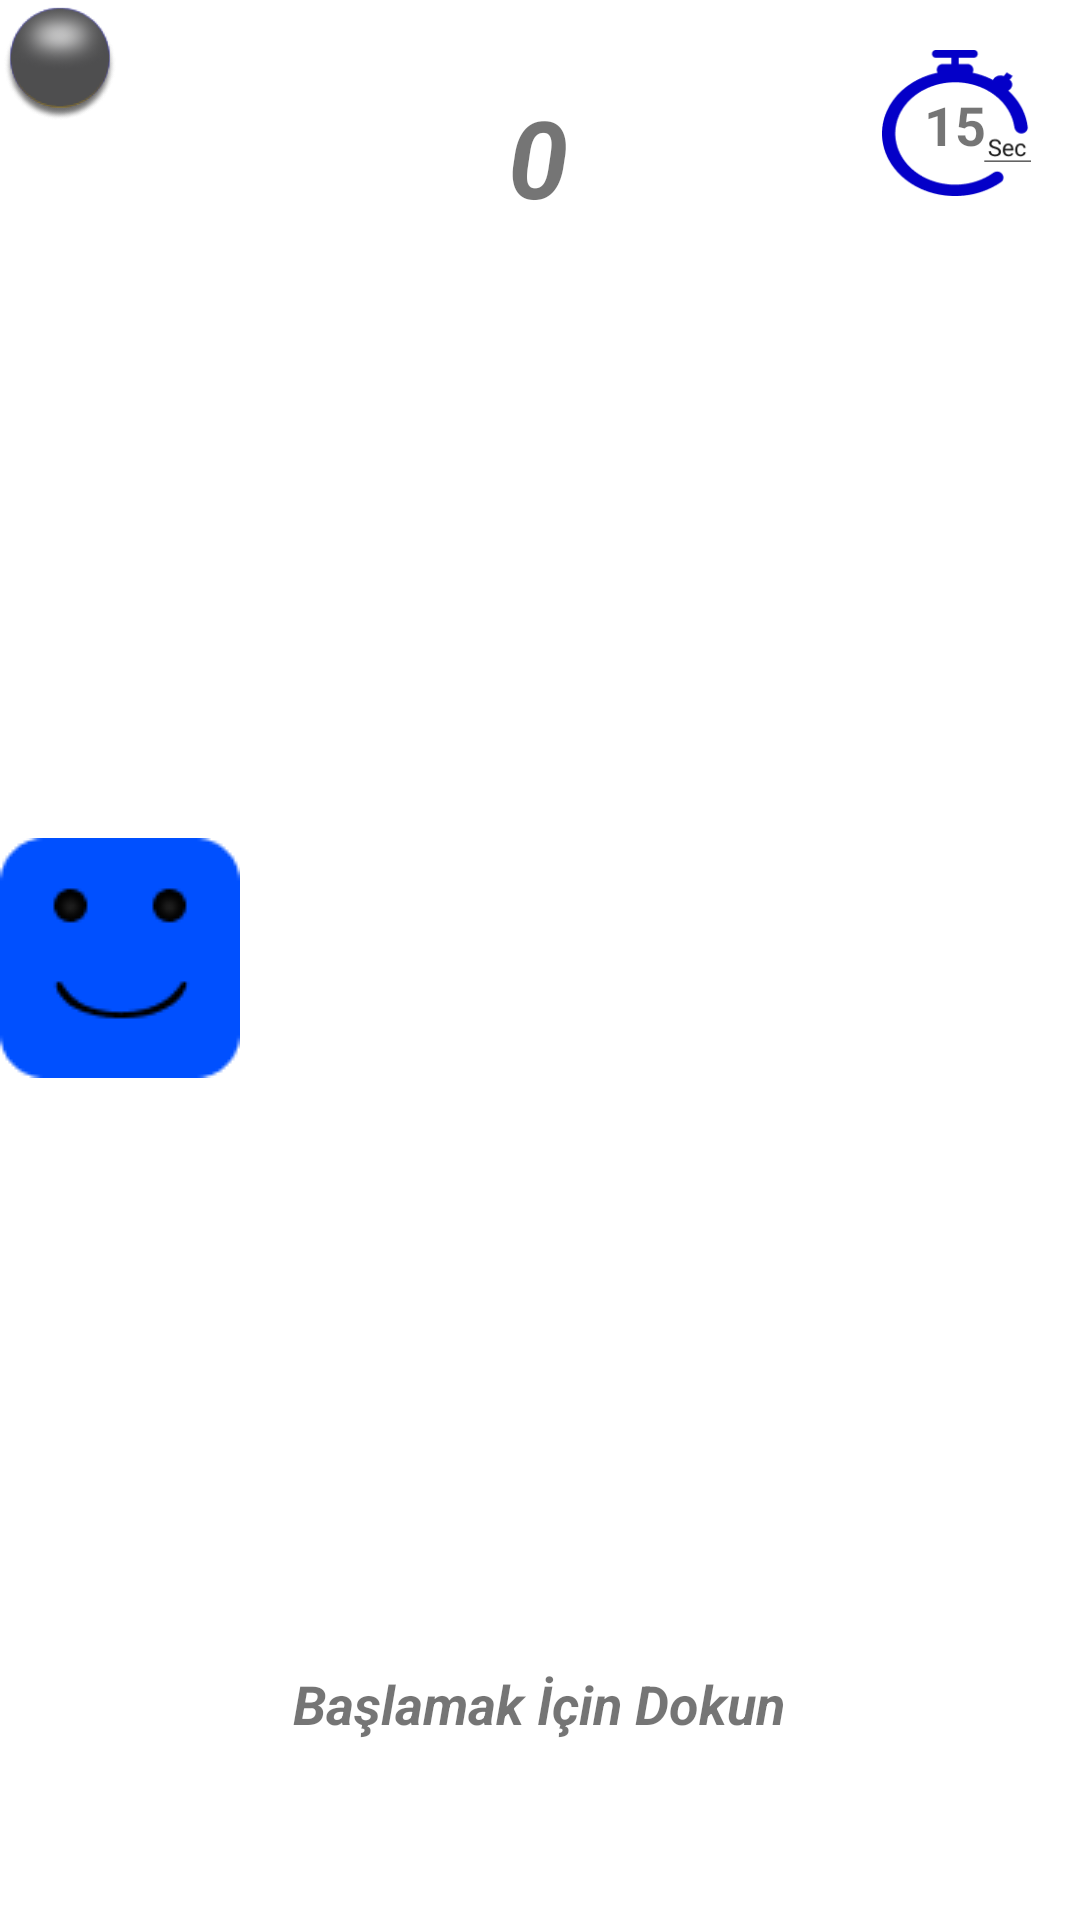

Where to tap for icons on this 1080px x 1920px app screen, as (x=x, y=y):
timer: (x=956, y=123)
